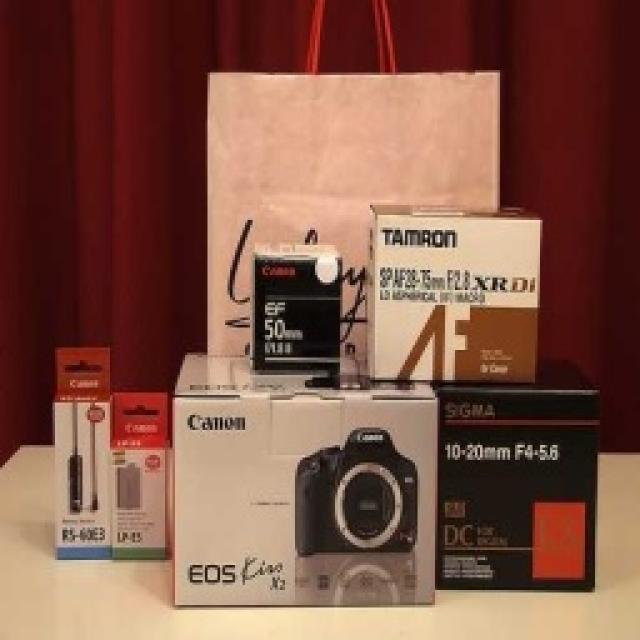box: (173, 351, 439, 612), (412, 368, 609, 599), (374, 201, 542, 387), (44, 344, 115, 554), (104, 397, 184, 569), (252, 234, 350, 366)
